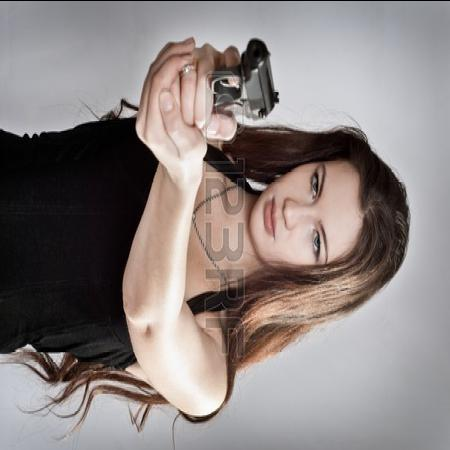Pistol: (209, 37, 282, 119)
